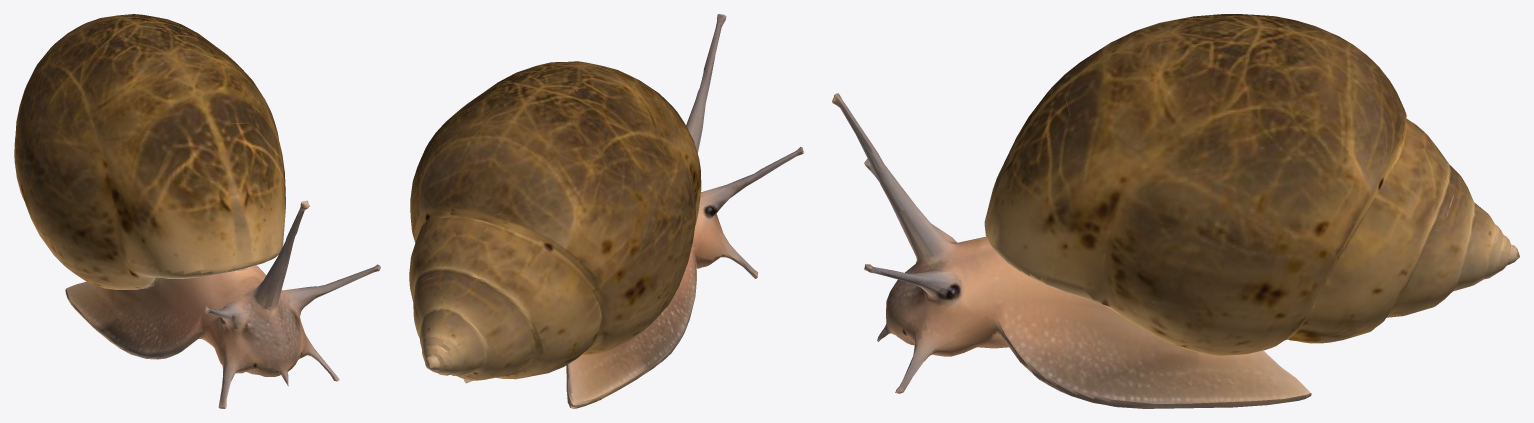
File: snail_bladder.glb
3 views of the same model, side by side, from view 1: azimuth 30°, elevation 25°; view 2: azimuth 150°, elevation 25°; view 3: azimuth 270°, elevation 25° (orthographic). The views are drawn at different scales.
Parts seen in each view (by area): view 1: Mesh0; view 2: Mesh0; view 3: Mesh0.
Part boxes in pixels (x1,y1,x2,y2): Mesh0: (14, 14, 380, 408); Mesh0: (409, 14, 803, 408); Mesh0: (832, 14, 1519, 408).
Size of the model in its own units: 0.8979 by 1.03 by 1.88.
Materials: 1 (1 with a texture image).
